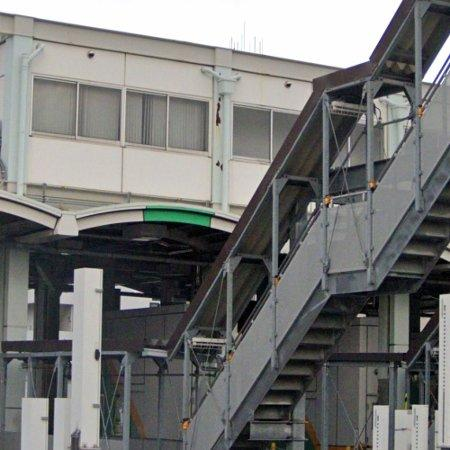stairs: (231, 85, 450, 447), (190, 369, 226, 450)
